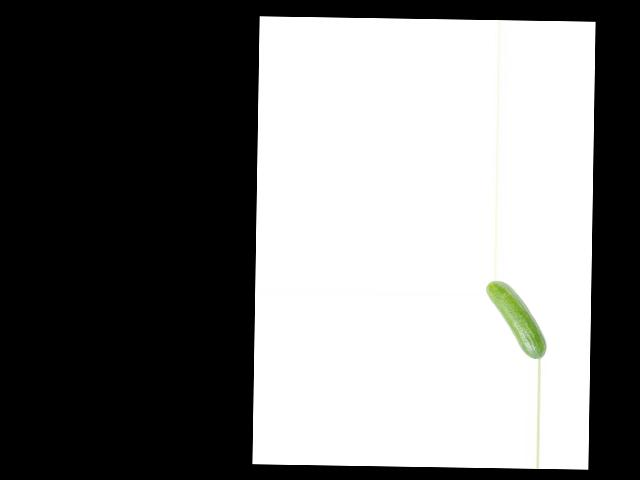cucumber: (485, 280, 548, 360)
